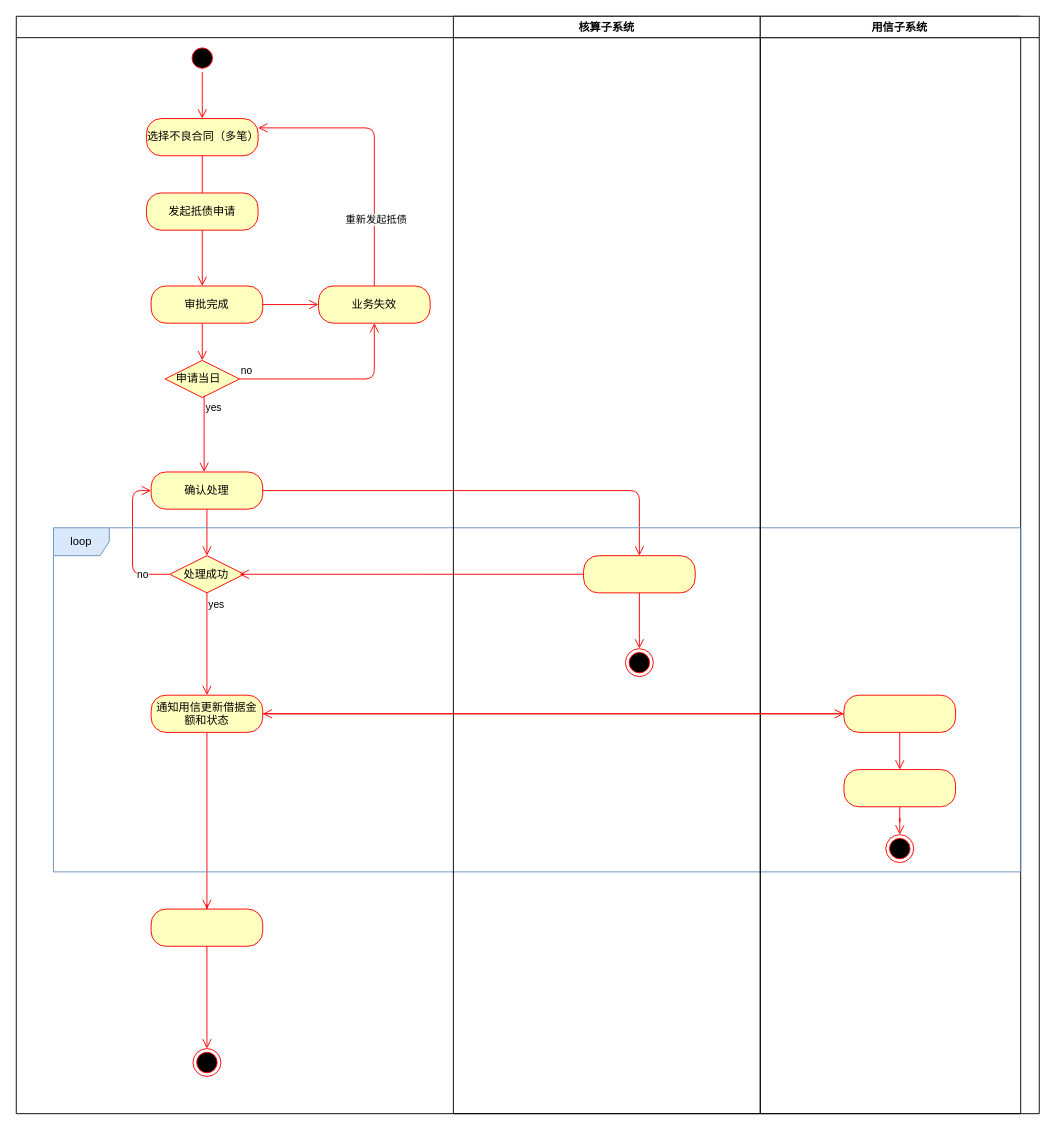
Some shapes in this 1056 by 1130 pixel diagram are drawn without their labels. Here are the shapes that lost their labels. From the top down, the centre of each, then its label:
(639,574): 还款
(899,713): 更新借据信息
(899,788): 更新借据状态、金额
(206,927): 处理完成
